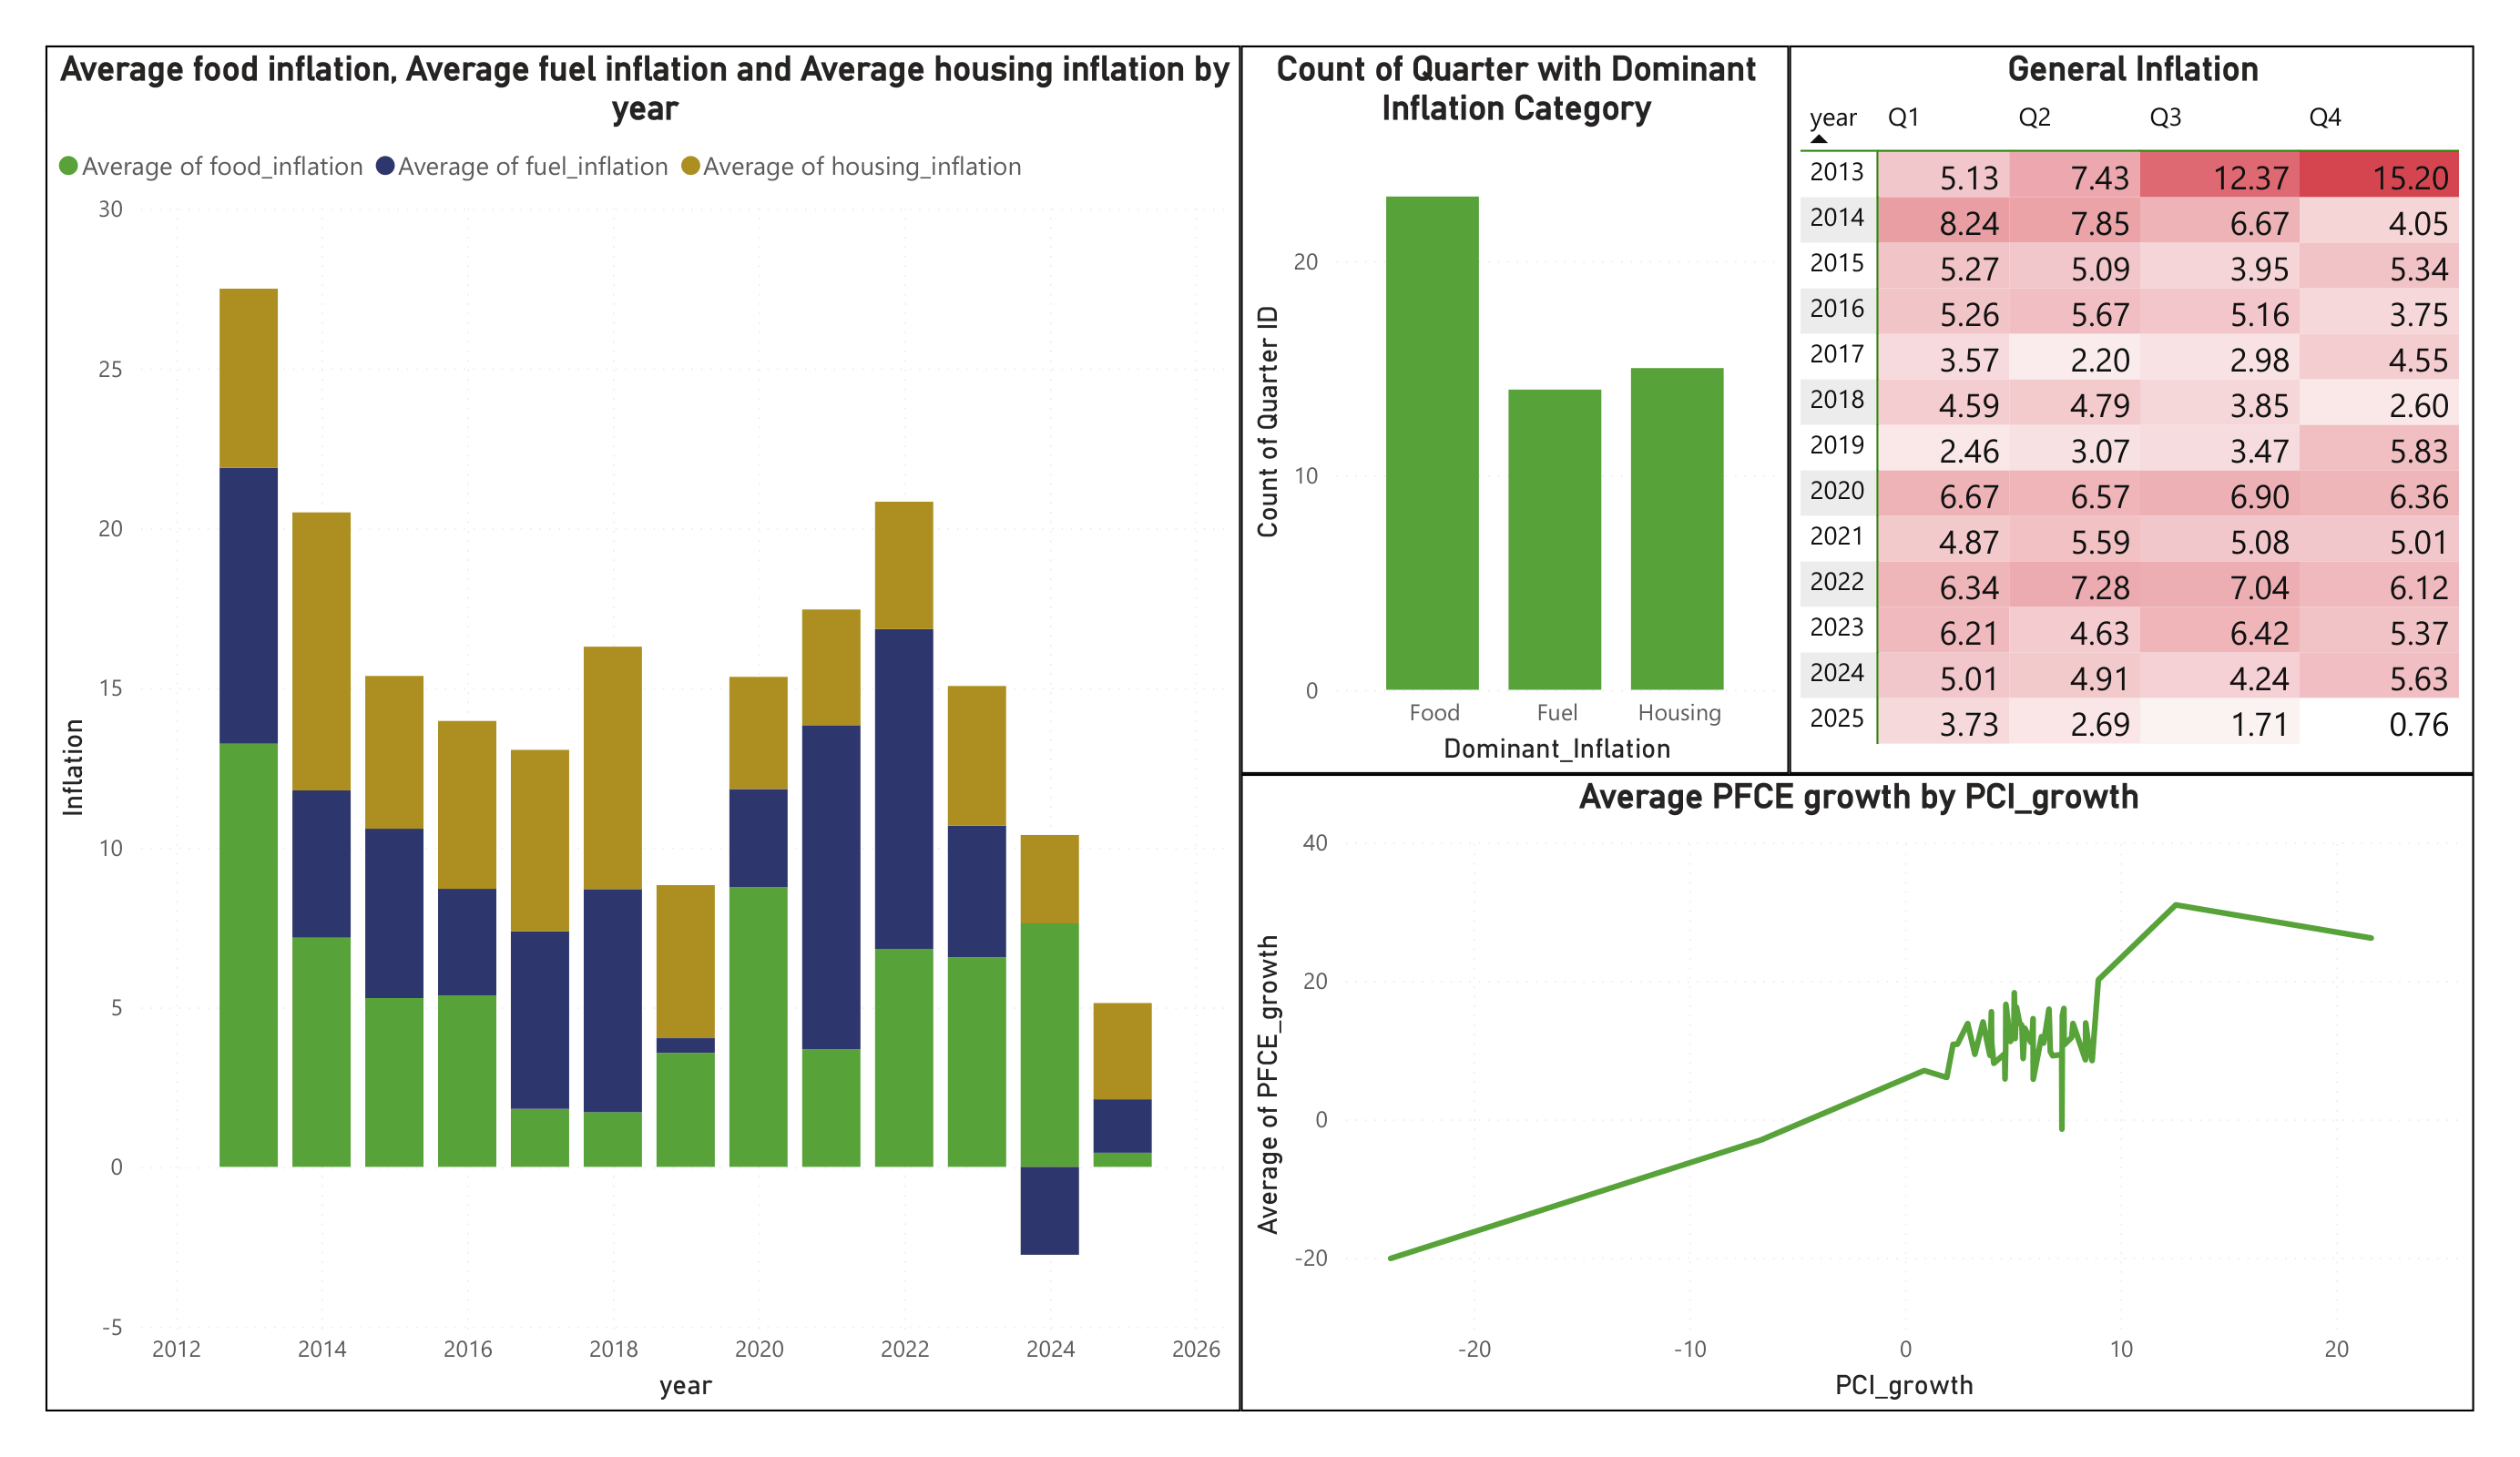

The dashboard page shown, as its layout file describes it:
{"tool":"powerbi","page":{"name":"Inflation Analysis","canvas":[1280,720],"ordinal":1},"visuals":[{"type":"columnChart","title":"Average food inflation, Average fuel inflation and Average housing inflation by year","fields":{"Y":["Avg(final dataset.food_inflation)","Avg(final dataset.fuel_inflation)","Avg(final dataset.housing_inflation)"],"Category":["final dataset.year"]},"box":[0,0,630,720],"z":0},{"type":"pivotTable","title":"General Inflation ","fields":{"Rows":["final dataset.year"],"Columns":["final dataset.quarter"],"Values":["Max(final dataset.general_inflation)"]},"box":[919.4,0,360.9,384.2],"z":1000},{"type":"columnChart","title":"Count of Quarter with Dominant Inflation Category","fields":{"Category":["final dataset.Dominant_Inflation"],"Y":["CountNonNull(final dataset.Quarter ID)"]},"box":[629.8,0,289.5,384.2],"z":2000},{"type":"lineChart","title":"Average PFCE growth by PCI_growth","fields":{"Category":["final dataset.PCI_growth"],"Y":["Avg(final dataset.PFCE_growth)"]},"box":[629.8,384.2,650.4,336.2],"z":3000}]}

Visuals, with their boxes in screenshot pixels (x1, y1, x2, y2):
"Average food inflation, Average fuel inflation and Average housing inflation by year" columnChart: x1=59, y1=53, x2=1239, y2=1401
"General Inflation " pivotTable: x1=1780, y1=53, x2=2456, y2=772
"Count of Quarter with Dominant Inflation Category" columnChart: x1=1239, y1=53, x2=1780, y2=772
"Average PFCE growth by PCI_growth" lineChart: x1=1239, y1=772, x2=2456, y2=1401
